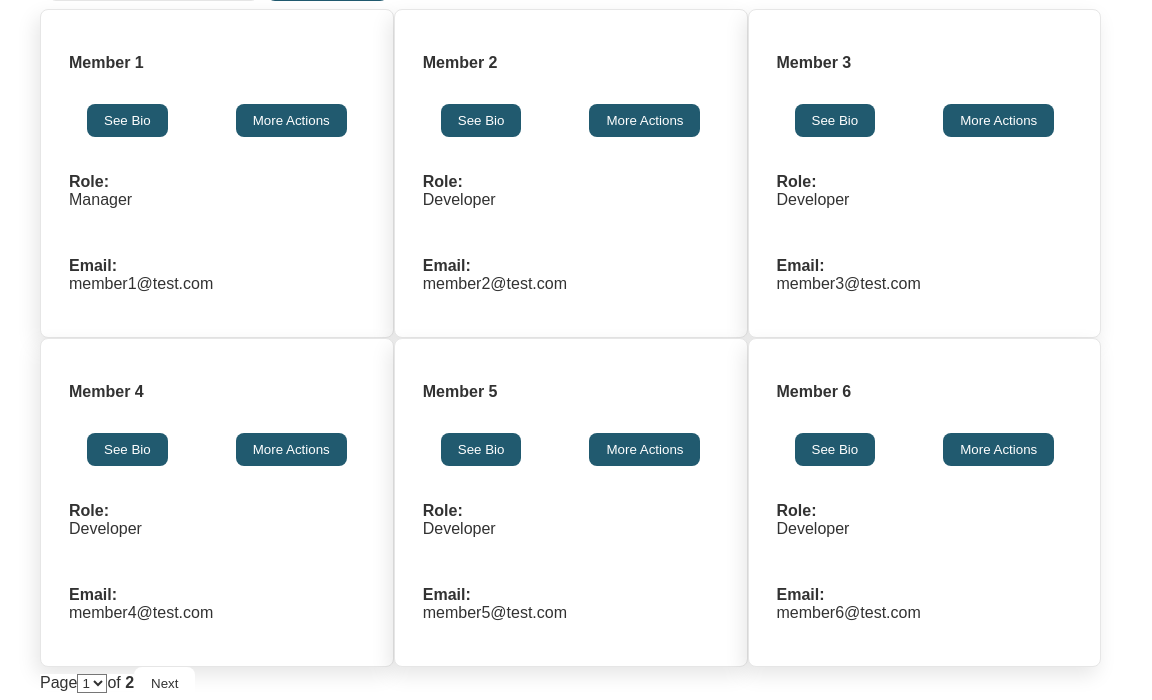
it: Directory › paginates correctly
(page scrolled)
Expected: the heading "Member 1" is shown, [53,38,381,88]
Expected: the text "Member 7" is not shown
Click Next
Click the button "Next".
click(165, 684)  # box [134,667,196,699]
(page scrolled)
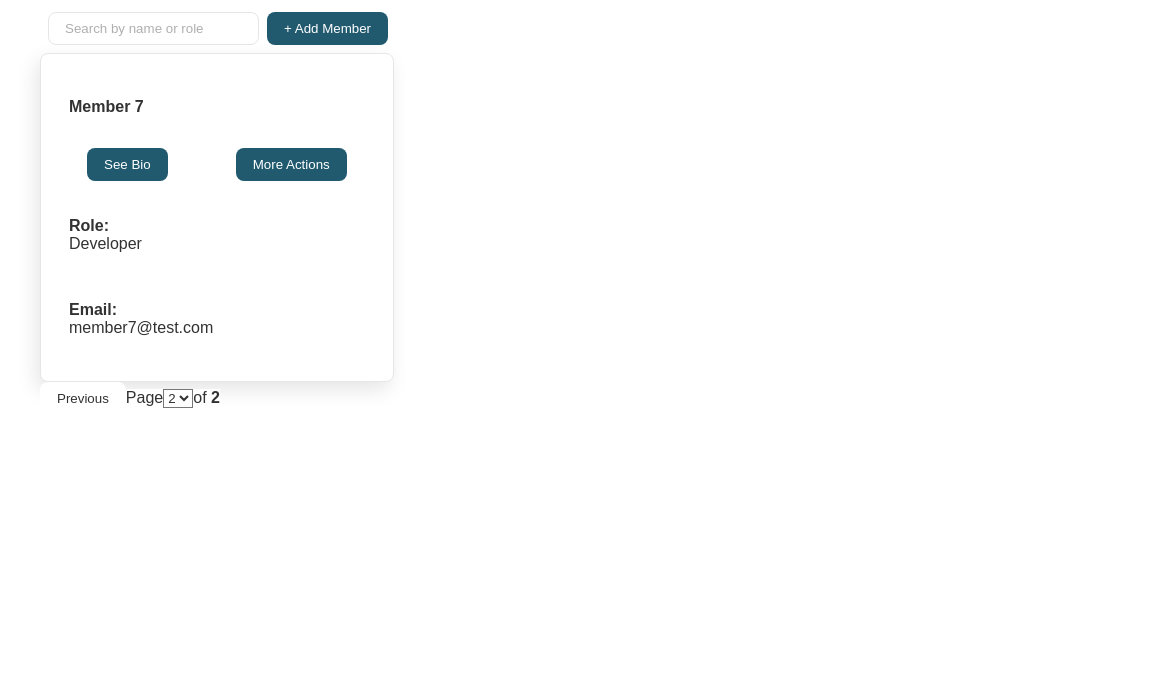
Now the heading "Member 7" is shown, box [53,82,381,132]
Now the heading "Member 1" is gone
